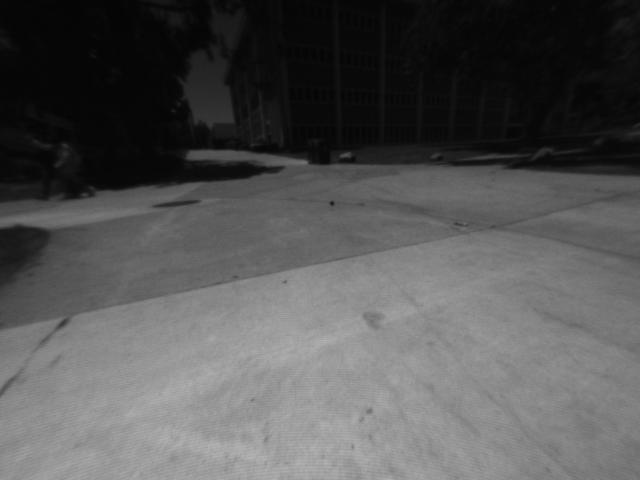dogtoy: (325, 193, 343, 211)
